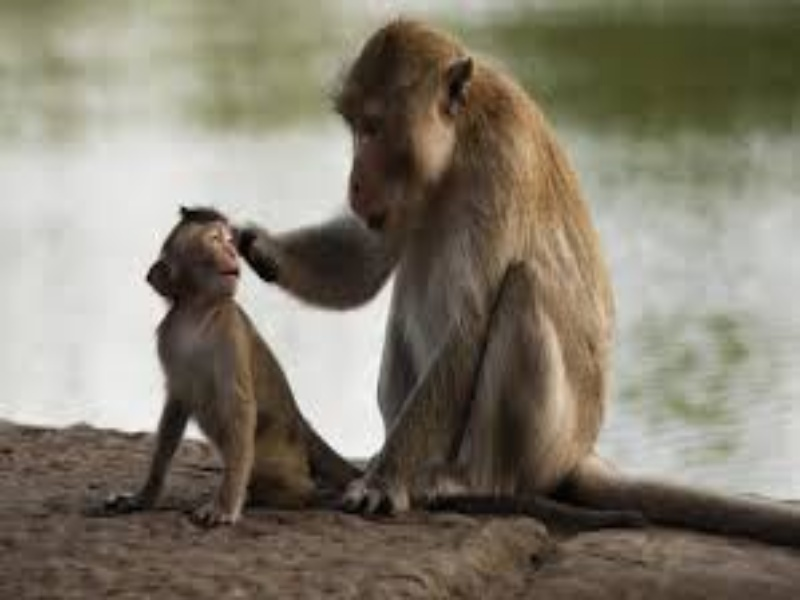monkey: (109, 16, 707, 573)
